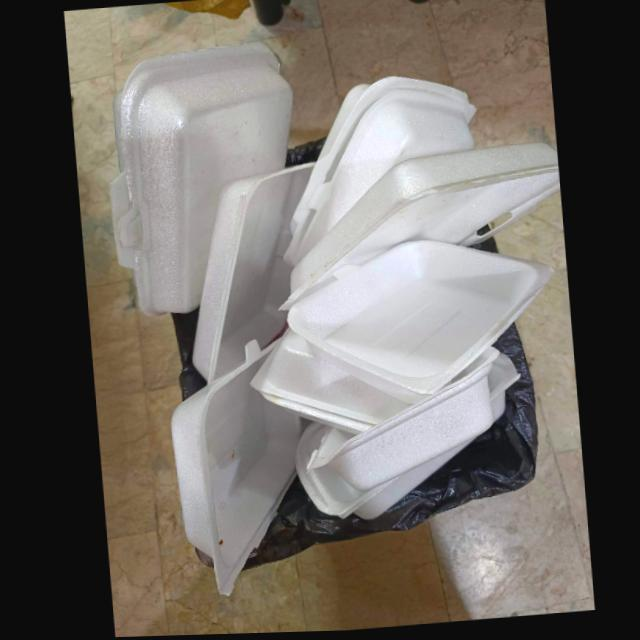styrofoam: (108, 44, 292, 319), (275, 146, 560, 311), (284, 242, 554, 407), (283, 79, 476, 269), (168, 342, 303, 598), (304, 351, 498, 493), (190, 165, 314, 385), (292, 425, 472, 523), (248, 332, 409, 437), (486, 357, 518, 424)
